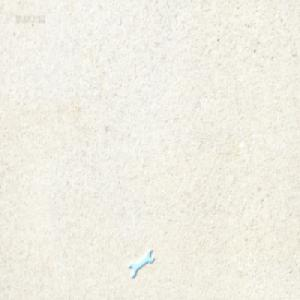Wrench: (128, 248, 153, 276)
